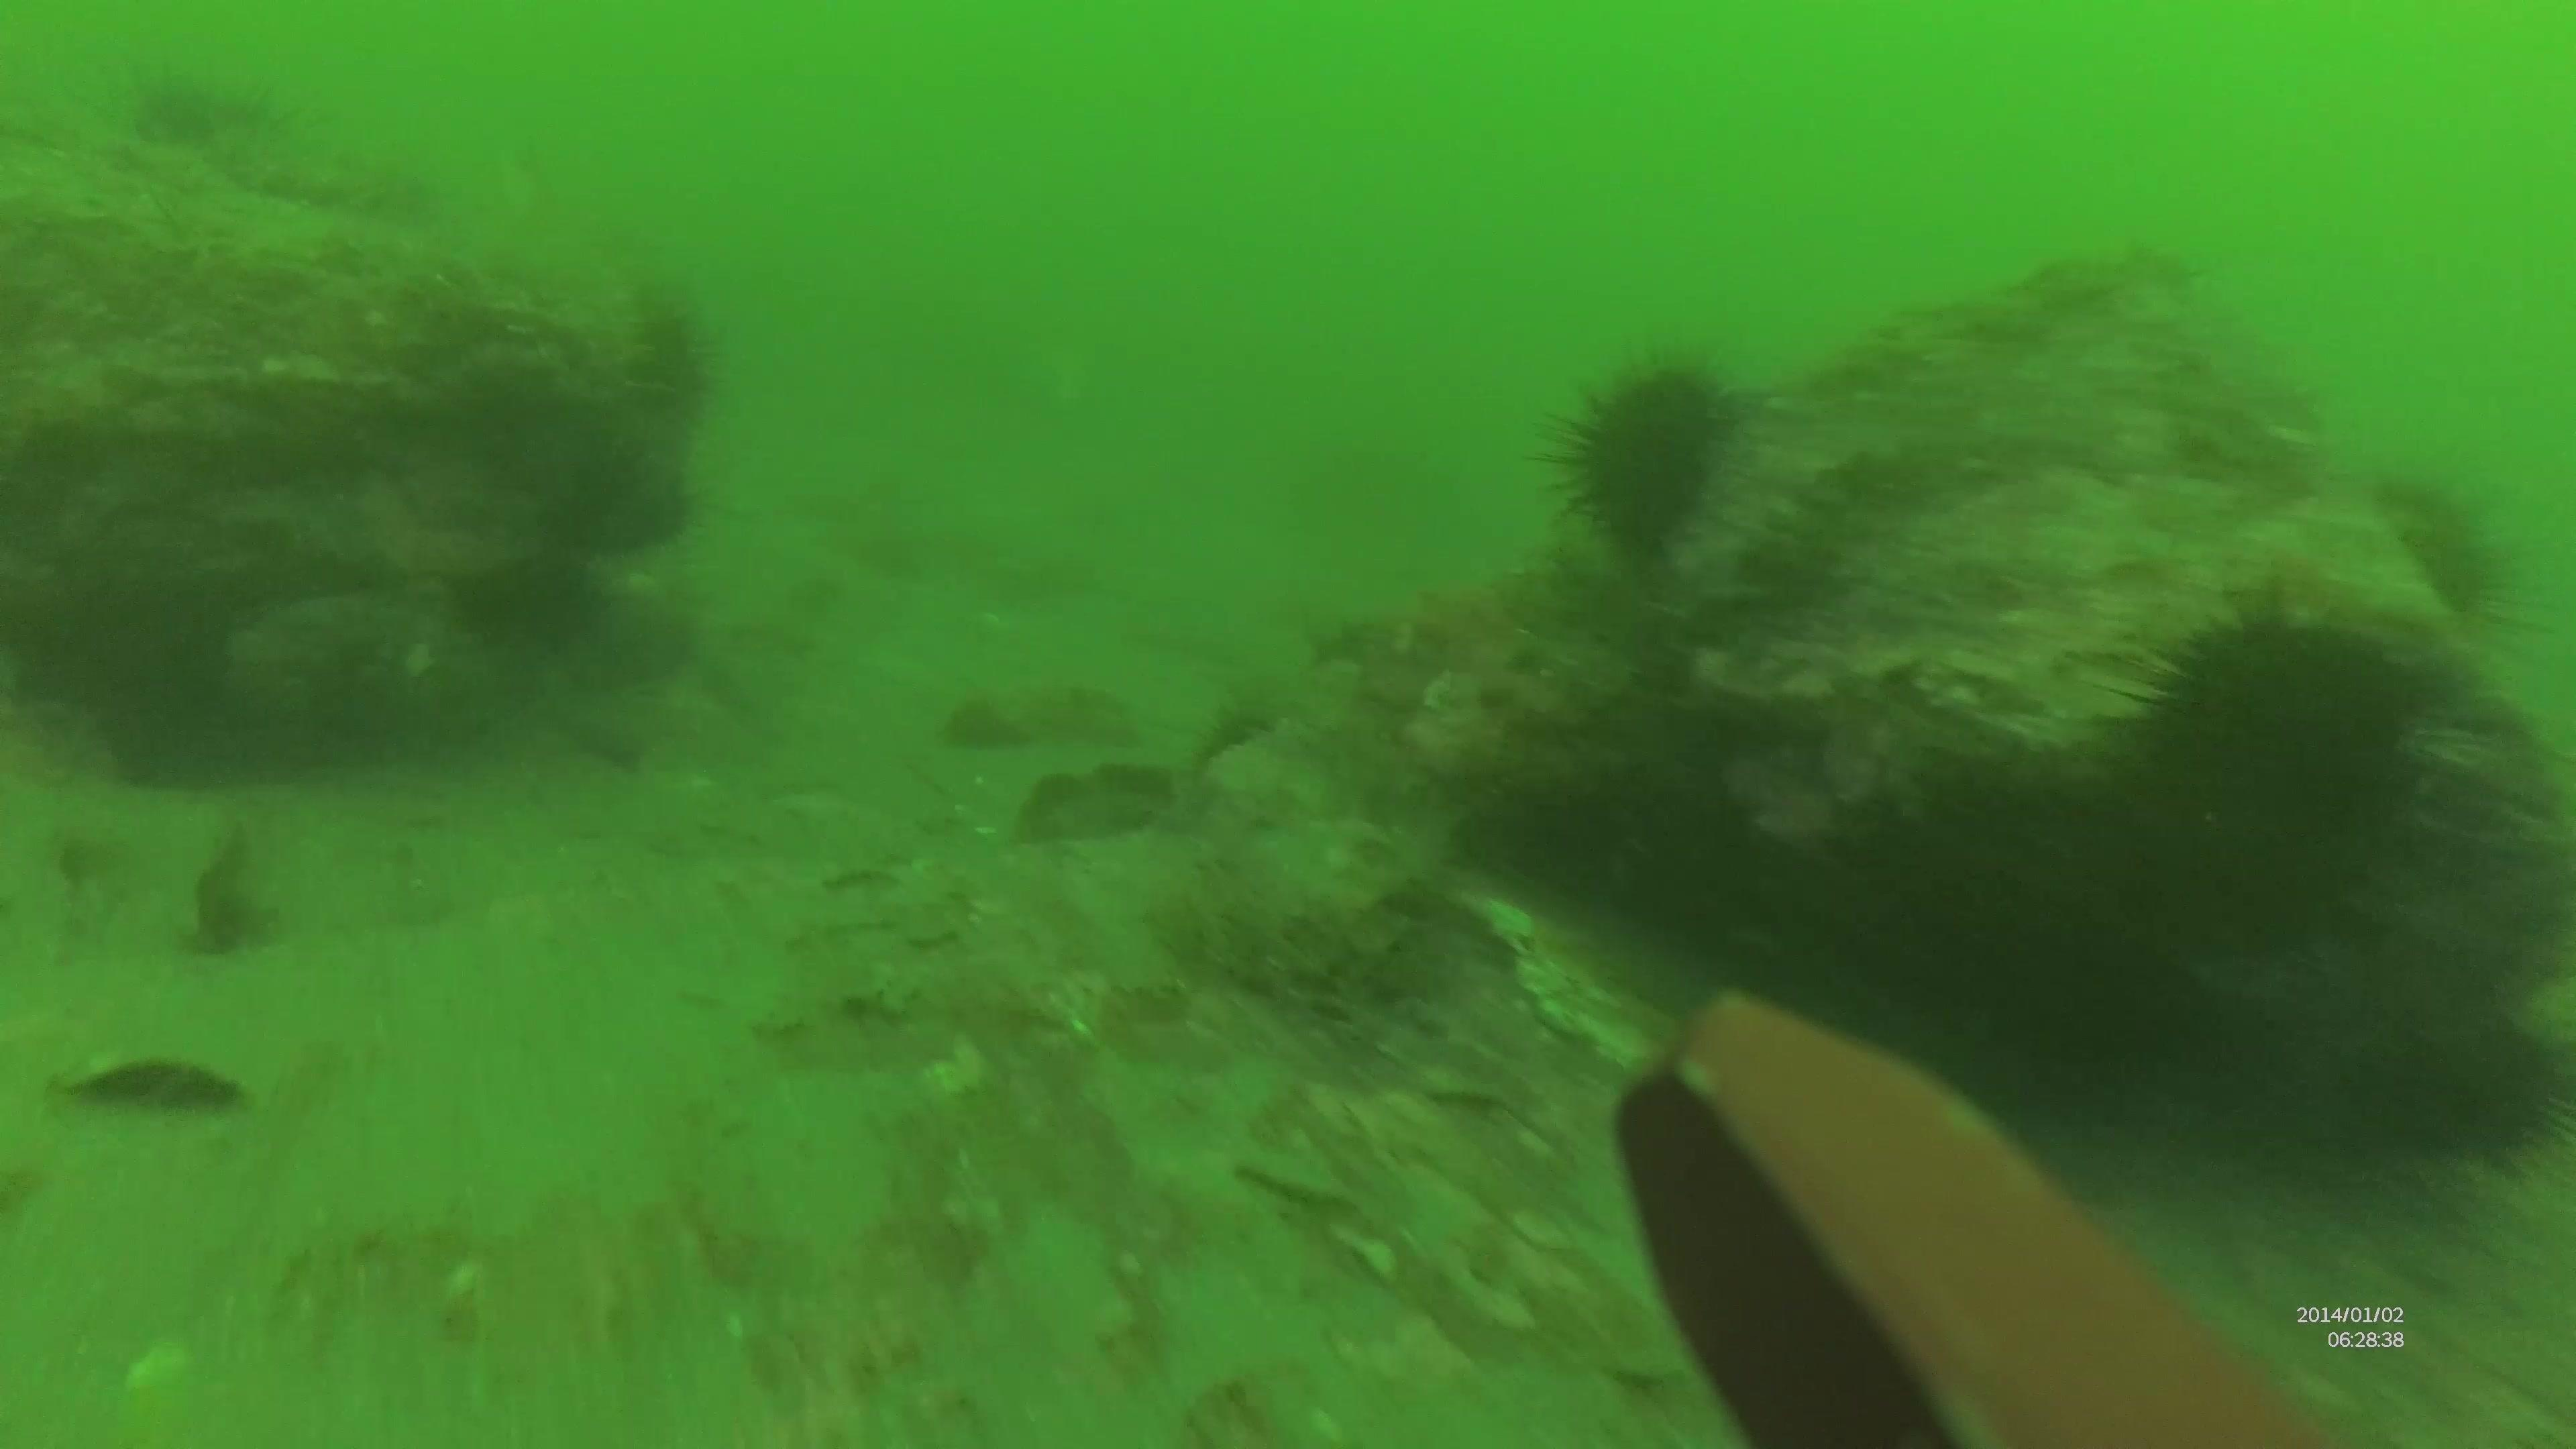echinus: (2114, 589, 2475, 920), (1529, 334, 1776, 570), (2328, 973, 2565, 1166), (2348, 474, 2562, 672)
